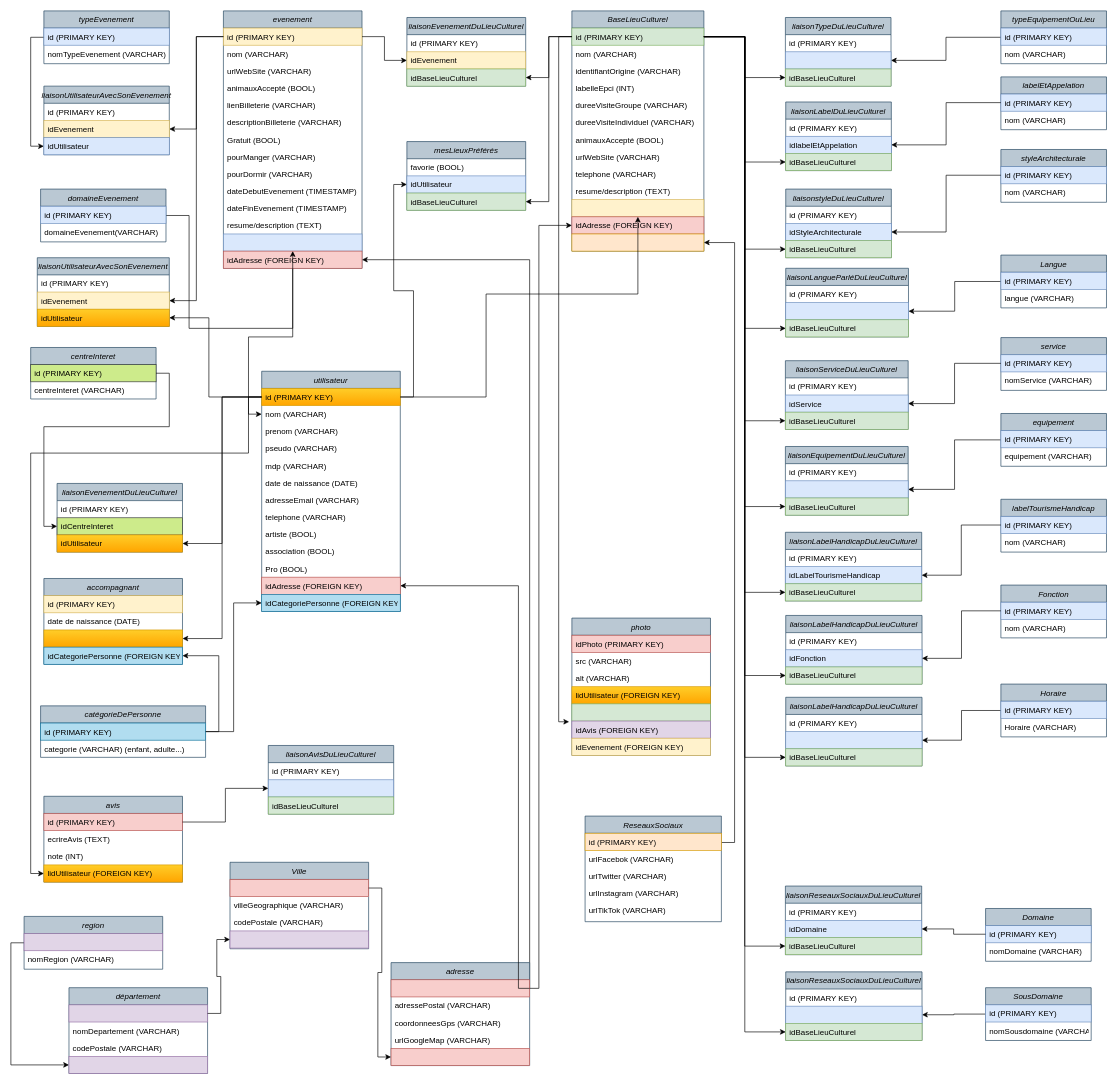
This 1117x1084 diagram has some shape labels left out. Each missing label, with the centre of its shape:
"codeRegion (PRIMARY KEY)" goes at point 93,942.
"idAdresse (PRIMARY KEY)" goes at point 460,988.
"idAvis" goes at point 331,788.
"idDepartement (PRIMARY KEY)" goes at point 138,1013.
"idDepartement(FOREIGN KEY)" goes at point 299,939.
"idDomaineEvenement" goes at point 292,242.
"idEquipement" goes at point 846,489.
"idHoraire" goes at point 853,740.
"idLangue" goes at point 846,311.
"idLieuCulturel (FOREIGN KEY)" goes at point 640,712.
"idReseauxSociaux" goes at point 637,242.
"idSousDomaine" goes at point 853,1014.
"idTypeEqupementOuLieu" goes at point 838,60.
"idUilisateur (FOREIGN KEY)" goes at point 112,638.
"idUtilisateur (FOREIGN KEY))" goes at point 637,208.
"idVille (PRIMARY KEY)" goes at point 299,888.
"idVille(FOREIGN KEY)" goes at point 460,1057.
"lienCodeRegion (FOREIGN KEY)" goes at point 138,1064.
